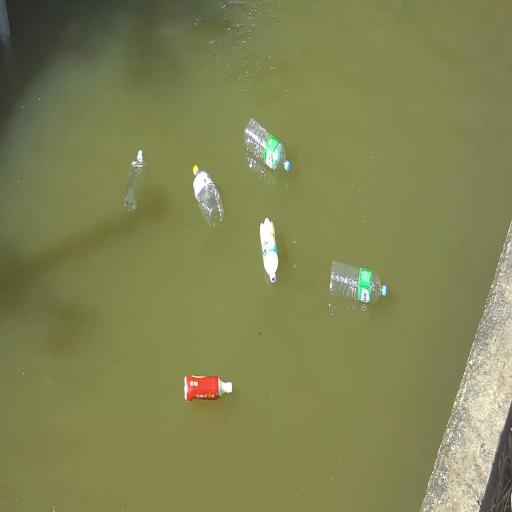plastic: (245, 119, 290, 172), (330, 261, 386, 302), (193, 165, 223, 227), (124, 150, 146, 212), (184, 375, 232, 401), (260, 219, 278, 283)
